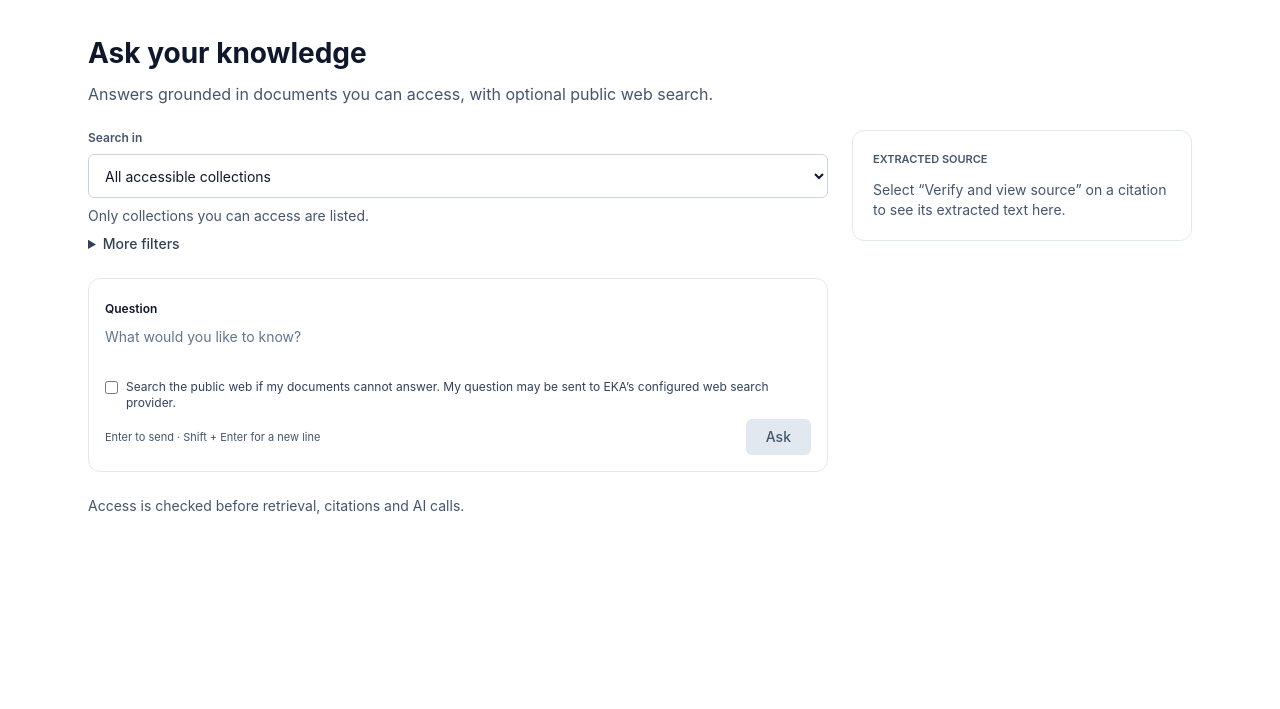
does not show a citation excerpt when the source is no longer accessible
In the text box labelled "Question": x=458, y=347 x1=105 y1=327 x2=811 y2=367, type "What is the policy?"
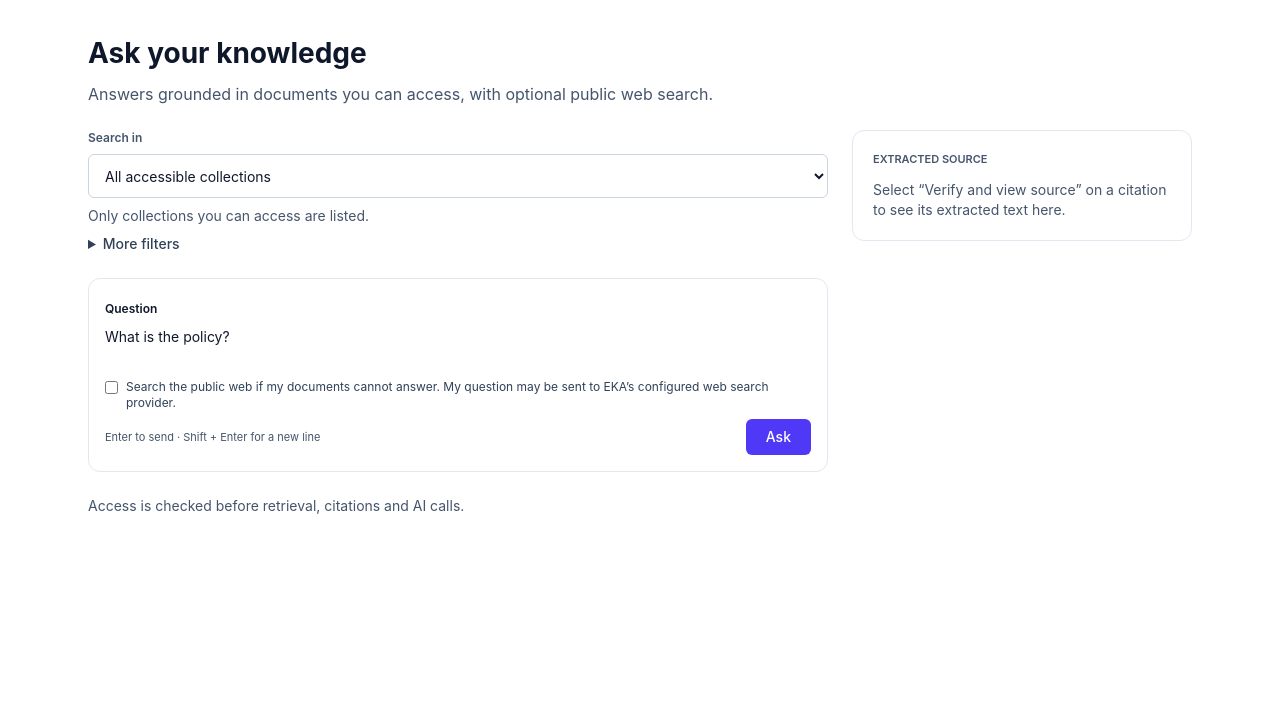
Click the button "Ask": x=778, y=437 x1=746 y1=419 x2=811 y2=455
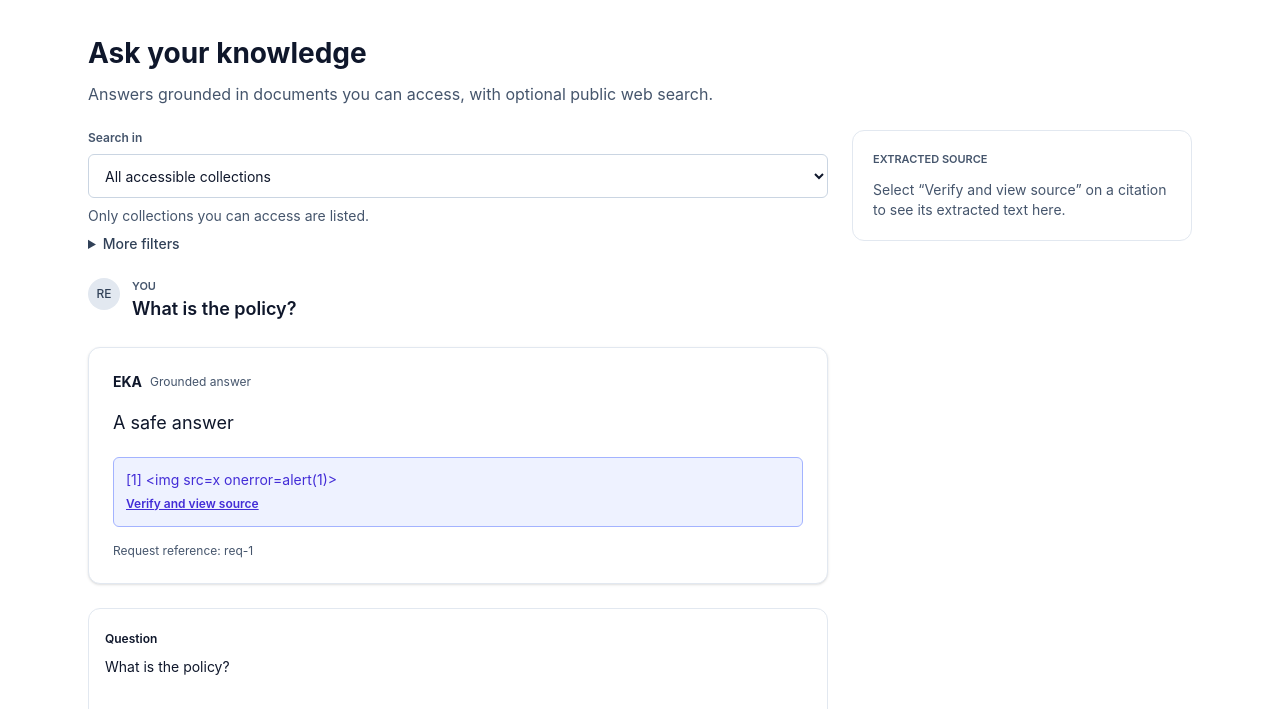
expect the text "A safe answer" is shown: met, box x1=113 y1=412 x2=234 y2=432
Click the button "Verify and view source": x=192, y=504 x1=126 y1=496 x2=259 y2=512
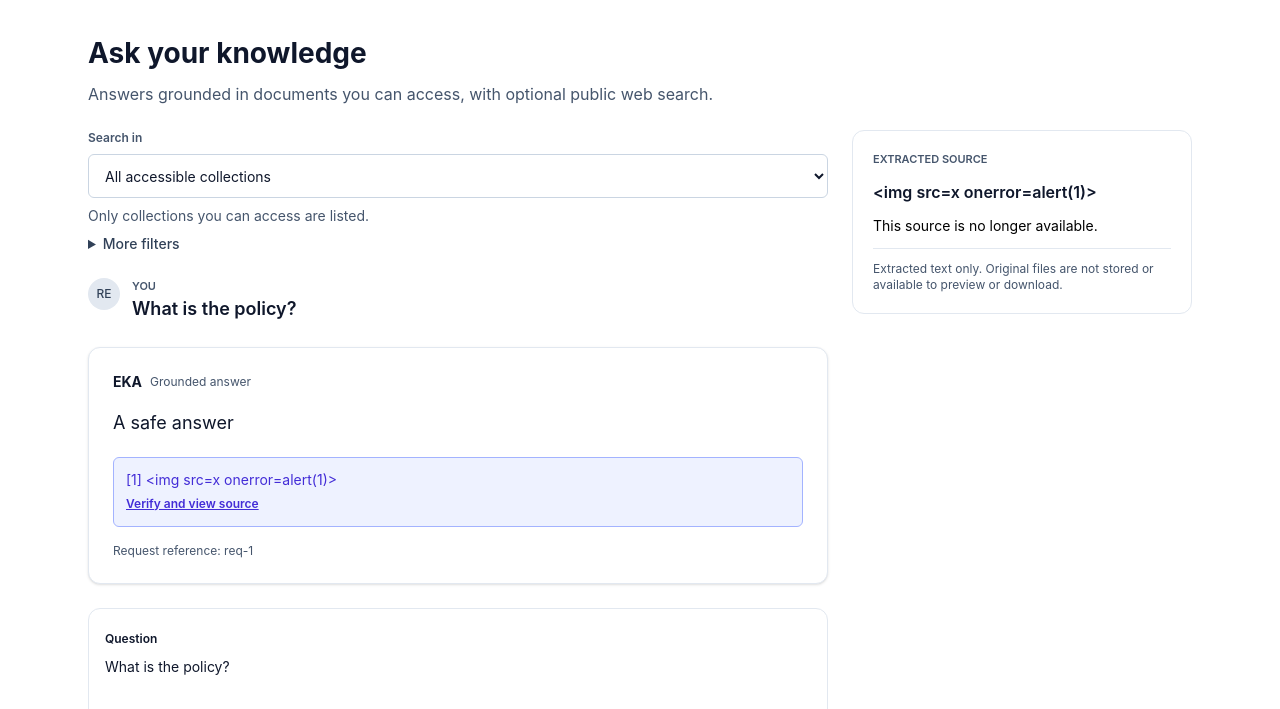
expect the text "This source is no longer available." is shown: met, box x1=873 y1=216 x2=1098 y2=234
